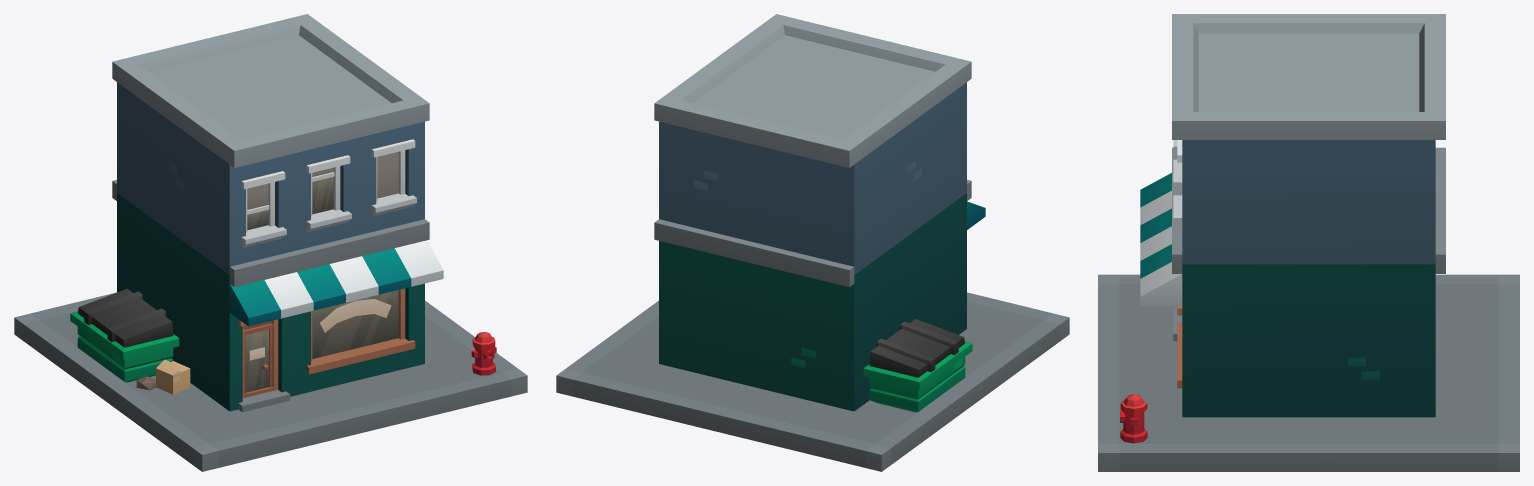
File: building_A.obj
The picture shows the model from 3 angles, left to right: view 1: azimuth 30°, elevation 25°; view 2: azimuth 150°, elevation 25°; view 3: azimuth 270°, elevation 25°; orthographic projection. The views are drawn at different scales.
Bounding box in the file's own units: 2 × 1.65 × 2.
Materials: 1 (1 with a texture image).
